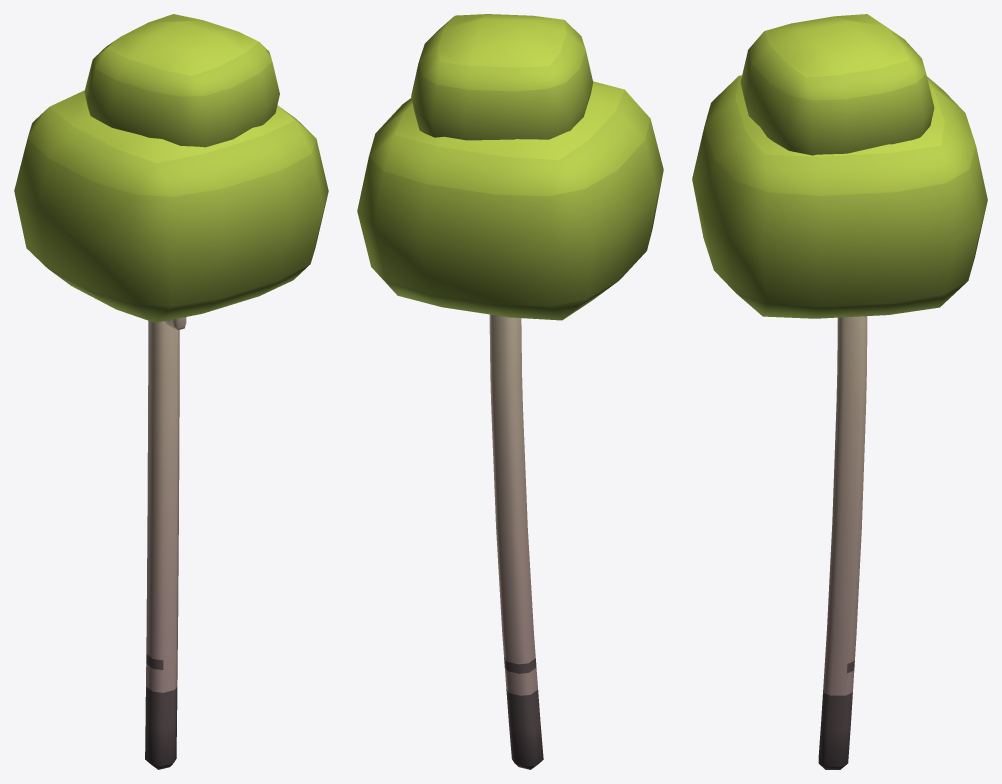
File: birch_tree_col1_09.fbx
3 views of the same model, side by side, from view 1: azimuth 30°, elevation 25°; view 2: azimuth 150°, elevation 25°; view 3: azimuth 270°, elevation 25° (orthographic). The views are drawn at different scales.
Visible parts, largest first — view 1: birch_tree_col1_09; view 2: birch_tree_col1_09; view 3: birch_tree_col1_09.
Boxes of the visible parts, bbox=[...] form: birch_tree_col1_09: bbox=[14, 14, 328, 769]; birch_tree_col1_09: bbox=[357, 14, 663, 769]; birch_tree_col1_09: bbox=[692, 14, 987, 769].
Size of the model in its own units: 177 by 487 by 175.
Materials: 1 (1 with a texture image).
